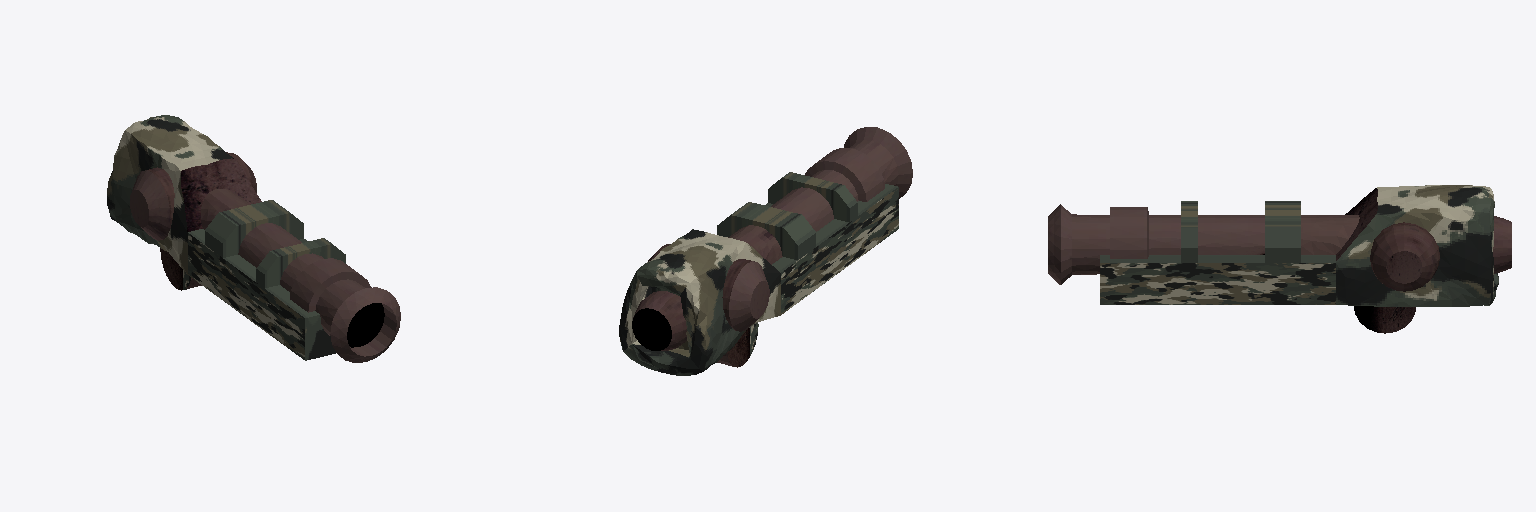
The picture shows the model from 3 angles: view 1: azimuth 30°, elevation 25°; view 2: azimuth 150°, elevation 25°; view 3: azimuth 270°, elevation 25°; orthographic projection.
Parts seen in each view (by area): view 1: Bazu:pCylinder4; view 2: Bazu:pCylinder4; view 3: Bazu:pCylinder4.
Part boxes in pixels (bbox=[...]): Bazu:pCylinder4: bbox=[107, 115, 400, 362]; Bazu:pCylinder4: bbox=[619, 127, 912, 375]; Bazu:pCylinder4: bbox=[1048, 185, 1511, 333].
Bounding box in the file's own units: 3.96 × 4.49 × 14.67.
1 materials, 1 textured.